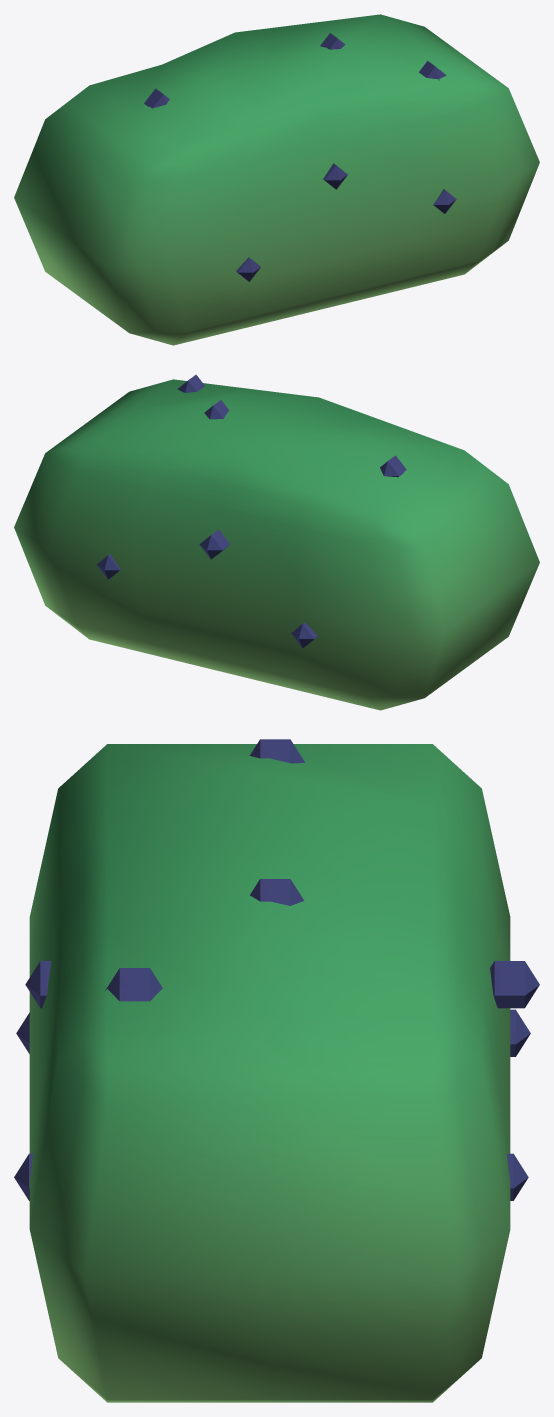
The model's file is bushwFlowers1.fbx.
The picture shows the model from 3 angles, top to bottom: view 1: azimuth 30°, elevation 25°; view 2: azimuth 150°, elevation 25°; view 3: azimuth 270°, elevation 25°; orthographic projection. The views are drawn at different scales.
Parts seen in each view (by area): view 1: BushFlowers; view 2: BushFlowers; view 3: BushFlowers.
Boxes of the visible parts, <box> form: BushFlowers: <box>14,14,539,345</box>; BushFlowers: <box>14,374,539,710</box>; BushFlowers: <box>14,739,539,1402</box>.
Size of the model in its own units: 113 by 62.07 by 57.5.
